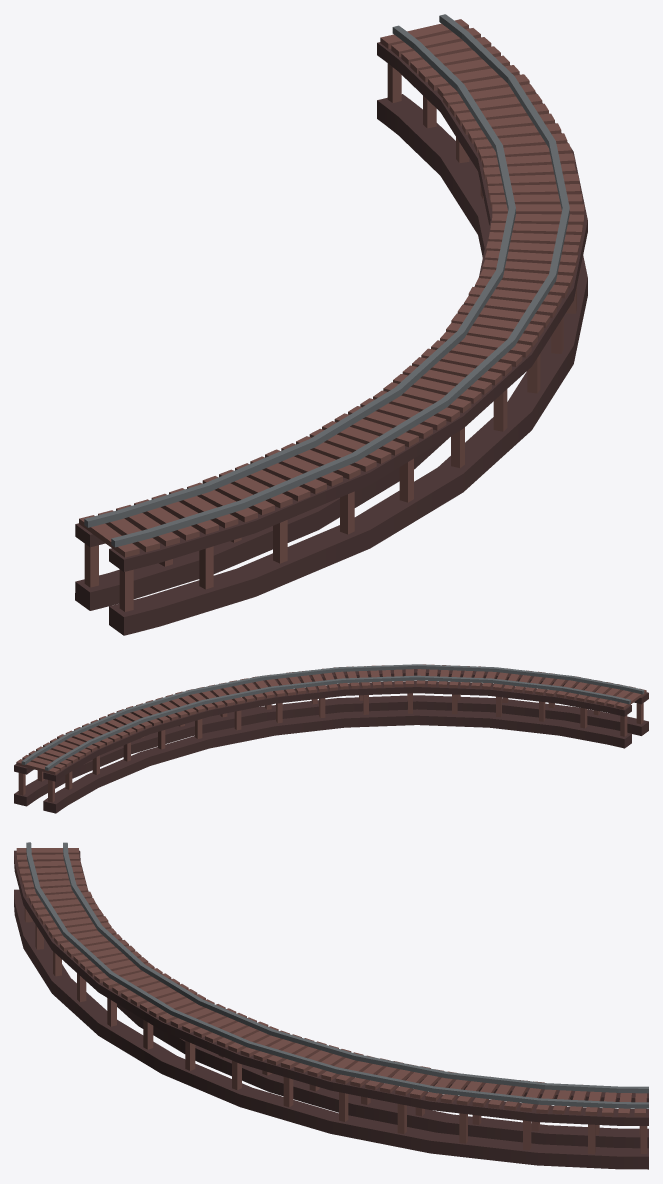
File: DarkRoseWoodMechLarge0_96GaugeRightTurn1.fbx
The picture shows the model from 3 angles, top to bottom: view 1: azimuth 30°, elevation 25°; view 2: azimuth 150°, elevation 25°; view 3: azimuth 270°, elevation 25°; orthographic projection. The views are drawn at different scales.
Parts seen in each view (by area): view 1: DarkRoseWoodMechLarge0_96GaugeRightTurn1; view 2: DarkRoseWoodMechLarge0_96GaugeRightTurn1; view 3: DarkRoseWoodMechLarge0_96GaugeRightTurn1.
Boxes of the visible parts, x1=… form: DarkRoseWoodMechLarge0_96GaugeRightTurn1: x1=75, y1=14, x2=587, y2=635; DarkRoseWoodMechLarge0_96GaugeRightTurn1: x1=14, y1=664, x2=648, y2=813; DarkRoseWoodMechLarge0_96GaugeRightTurn1: x1=14, y1=842, x2=648, y2=1169.
Size of the model in its own units: 2111 by 221 by 2121.
